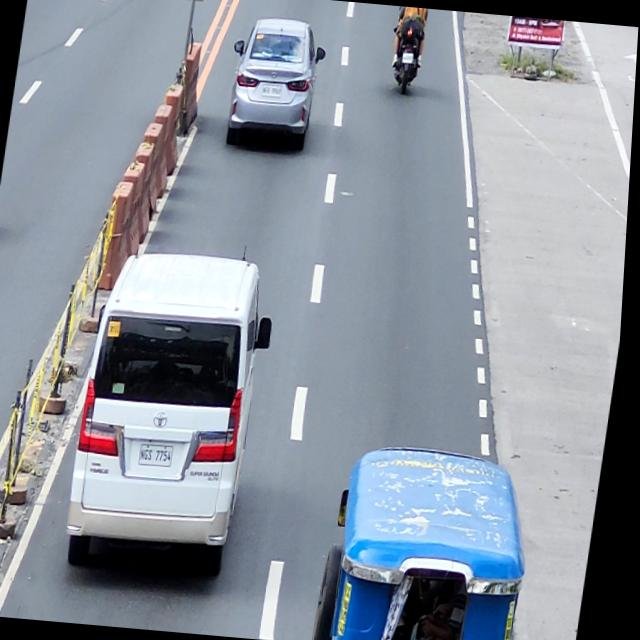Car: (65, 241, 286, 579), (220, 13, 330, 152)
Jeep: (318, 440, 548, 640)
License-Plate: (141, 440, 181, 468), (262, 84, 282, 100), (401, 51, 414, 64)
Motorcycle: (386, 15, 427, 94)
